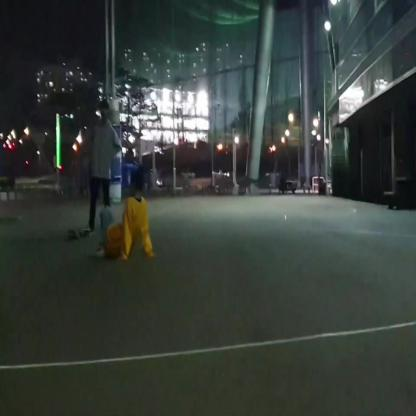Fall_Down: (96, 169, 155, 262)
